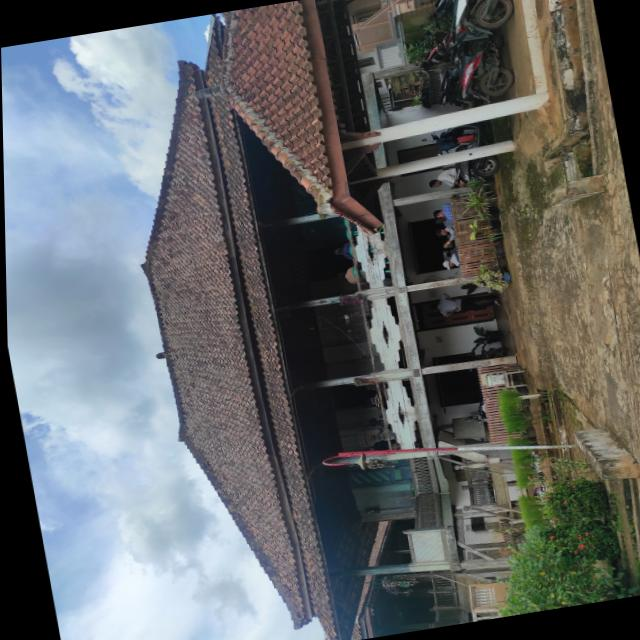Ornamen: (370, 297, 401, 370), (386, 379, 417, 448)
Tembok Bangunan: (297, 215, 433, 521)
